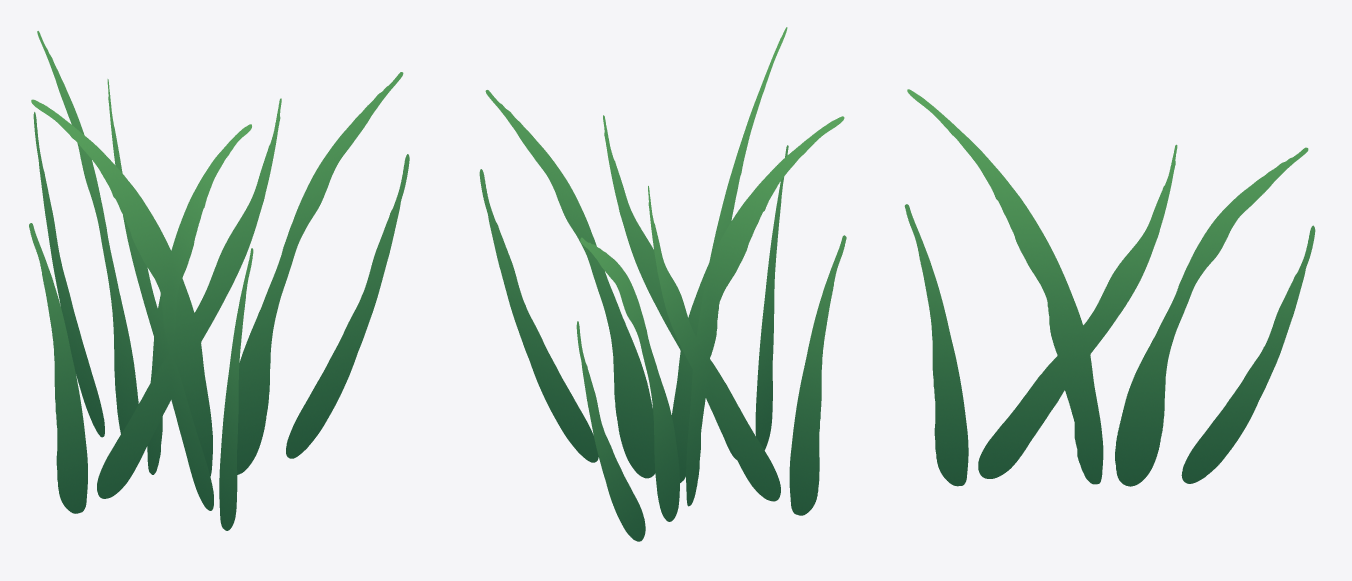
File: SM_GrossaErbaScura.fbx
3 views of the same model, side by side, from view 1: azimuth 30°, elevation 25°; view 2: azimuth 150°, elevation 25°; view 3: azimuth 270°, elevation 25° (orthographic). The views are drawn at different scales.
Parts seen in each view (by area): view 1: SM_GrossaErbaScura_LOD0; view 2: SM_GrossaErbaScura_LOD0; view 3: SM_GrossaErbaScura_LOD0.
Part boxes in pixels (bbox=[...]): SM_GrossaErbaScura_LOD0: bbox=[29, 31, 409, 530]; SM_GrossaErbaScura_LOD0: bbox=[479, 27, 846, 541]; SM_GrossaErbaScura_LOD0: bbox=[904, 89, 1315, 486].
Bounding box in the file's own units: 100 × 100 × 104.
Materials: 1 (1 with a texture image).
